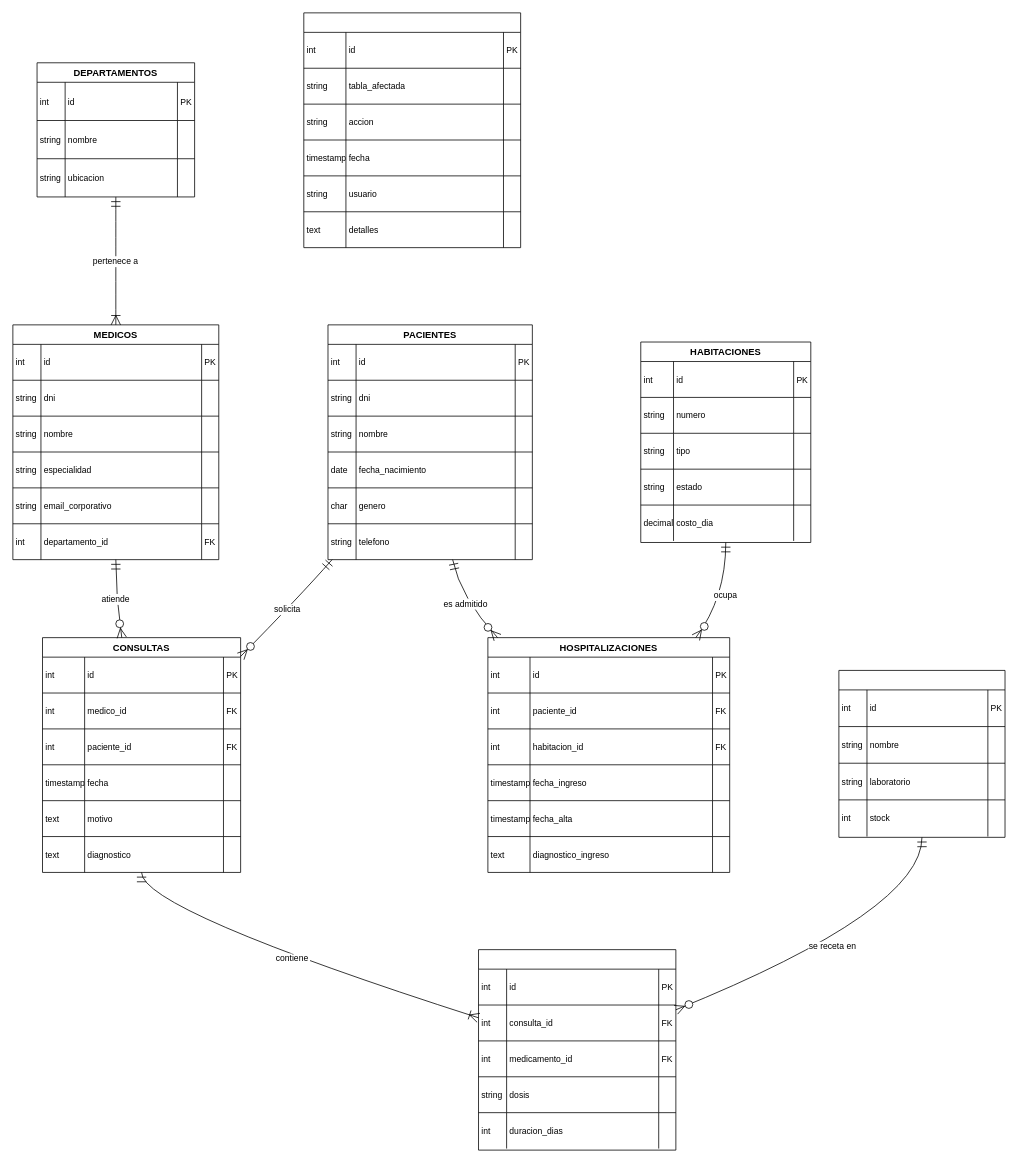
Image size: 1018x1163. Some labels were removed from this diagram. Each missing label, with the box of its shape:
AUDITORIA_LOG: (303, 12, 521, 248)
MEDICAMENTOS: (838, 670, 1005, 837)
PRESCRIPCIONES: (478, 949, 676, 1150)
